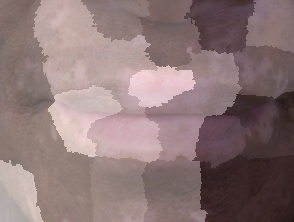vitiligo: (0, 0, 294, 207)
